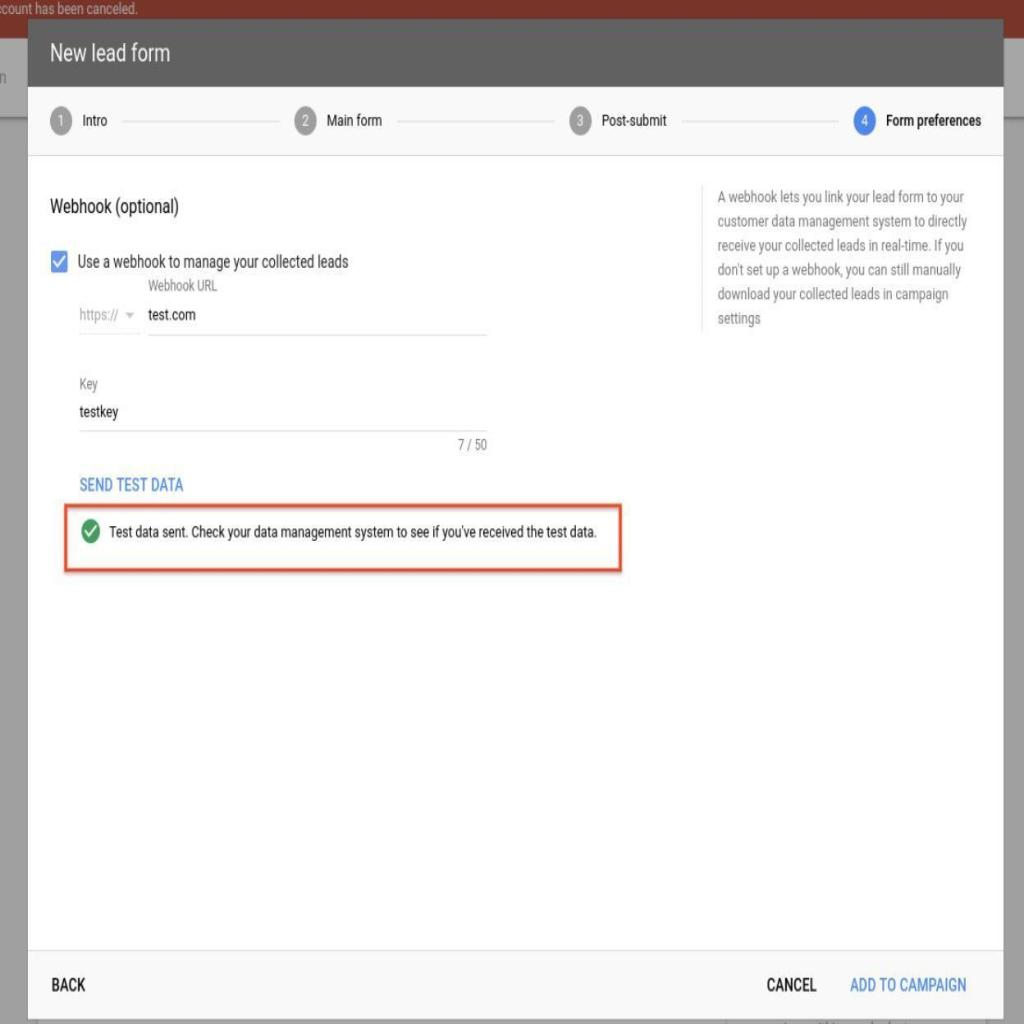checkbox: (50, 250, 69, 273)
label: (109, 523, 600, 541), (77, 250, 350, 271), (46, 196, 185, 220), (849, 972, 970, 996), (79, 474, 186, 496), (147, 276, 218, 297), (763, 970, 819, 995), (46, 972, 90, 997), (79, 376, 99, 392)
